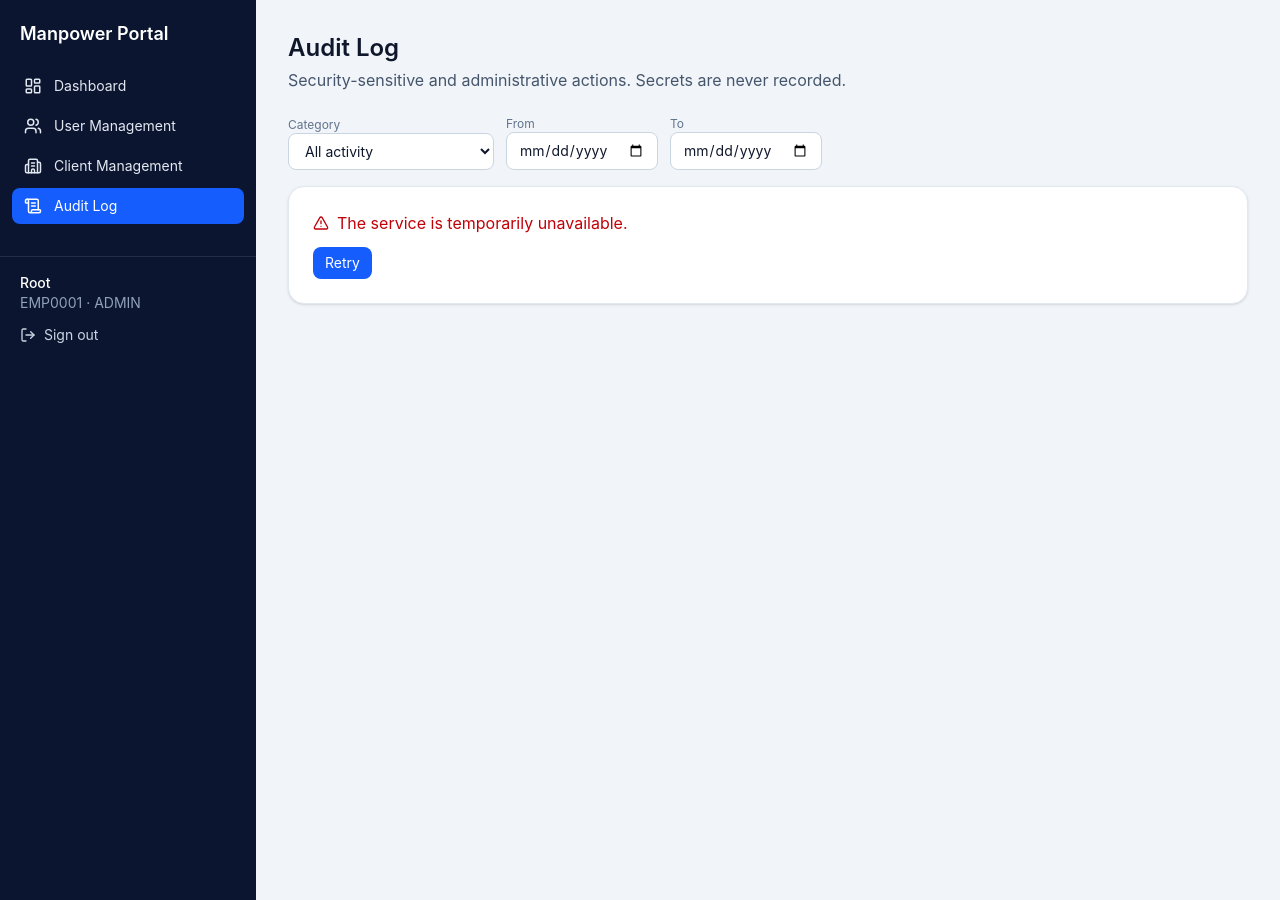
Test case: empty and error states
expect the message shows "temporarily unavailable": met, box [337,213,628,233]
Click the button "Retry": [342, 263] box [313,247,372,279]
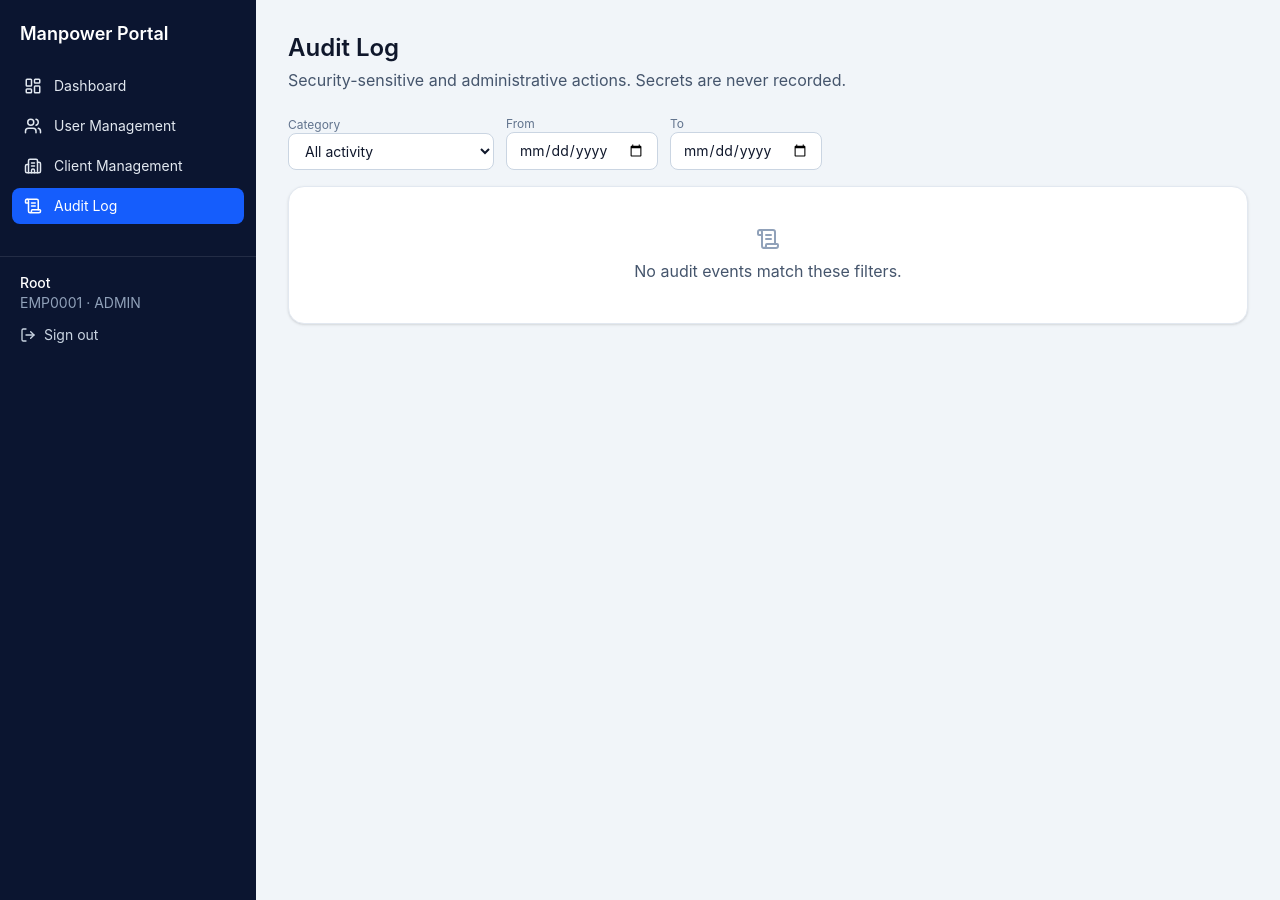
expect the text "No audit events match these filters." is shown: met, box [634,227,902,281]
